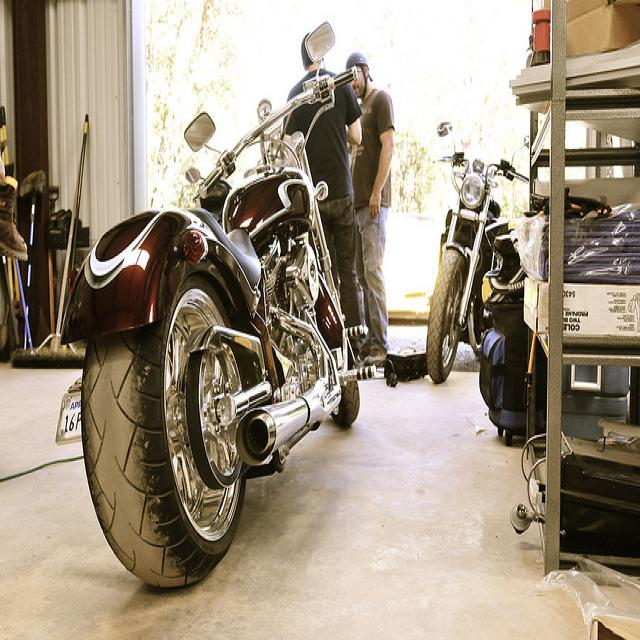motor: (56, 31, 400, 592), (428, 120, 530, 380)
